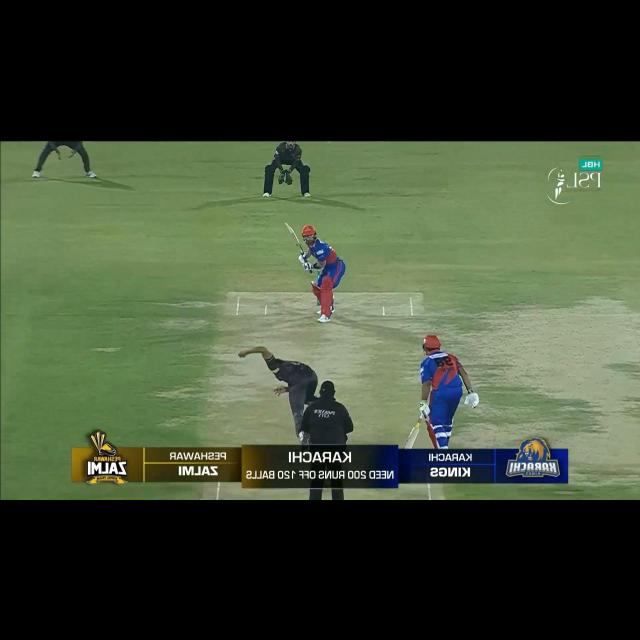bat: (284, 221, 304, 254), (402, 425, 420, 448)
toe: (284, 221, 293, 232)
